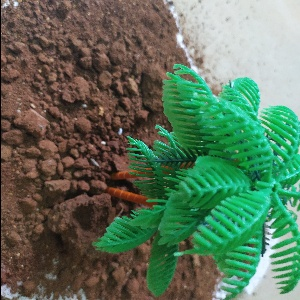plant: (100, 62, 300, 285)
